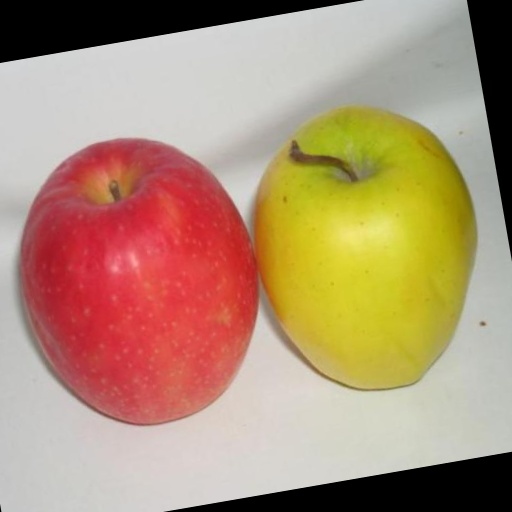fruit: (19, 139, 258, 424), (254, 106, 476, 389)
